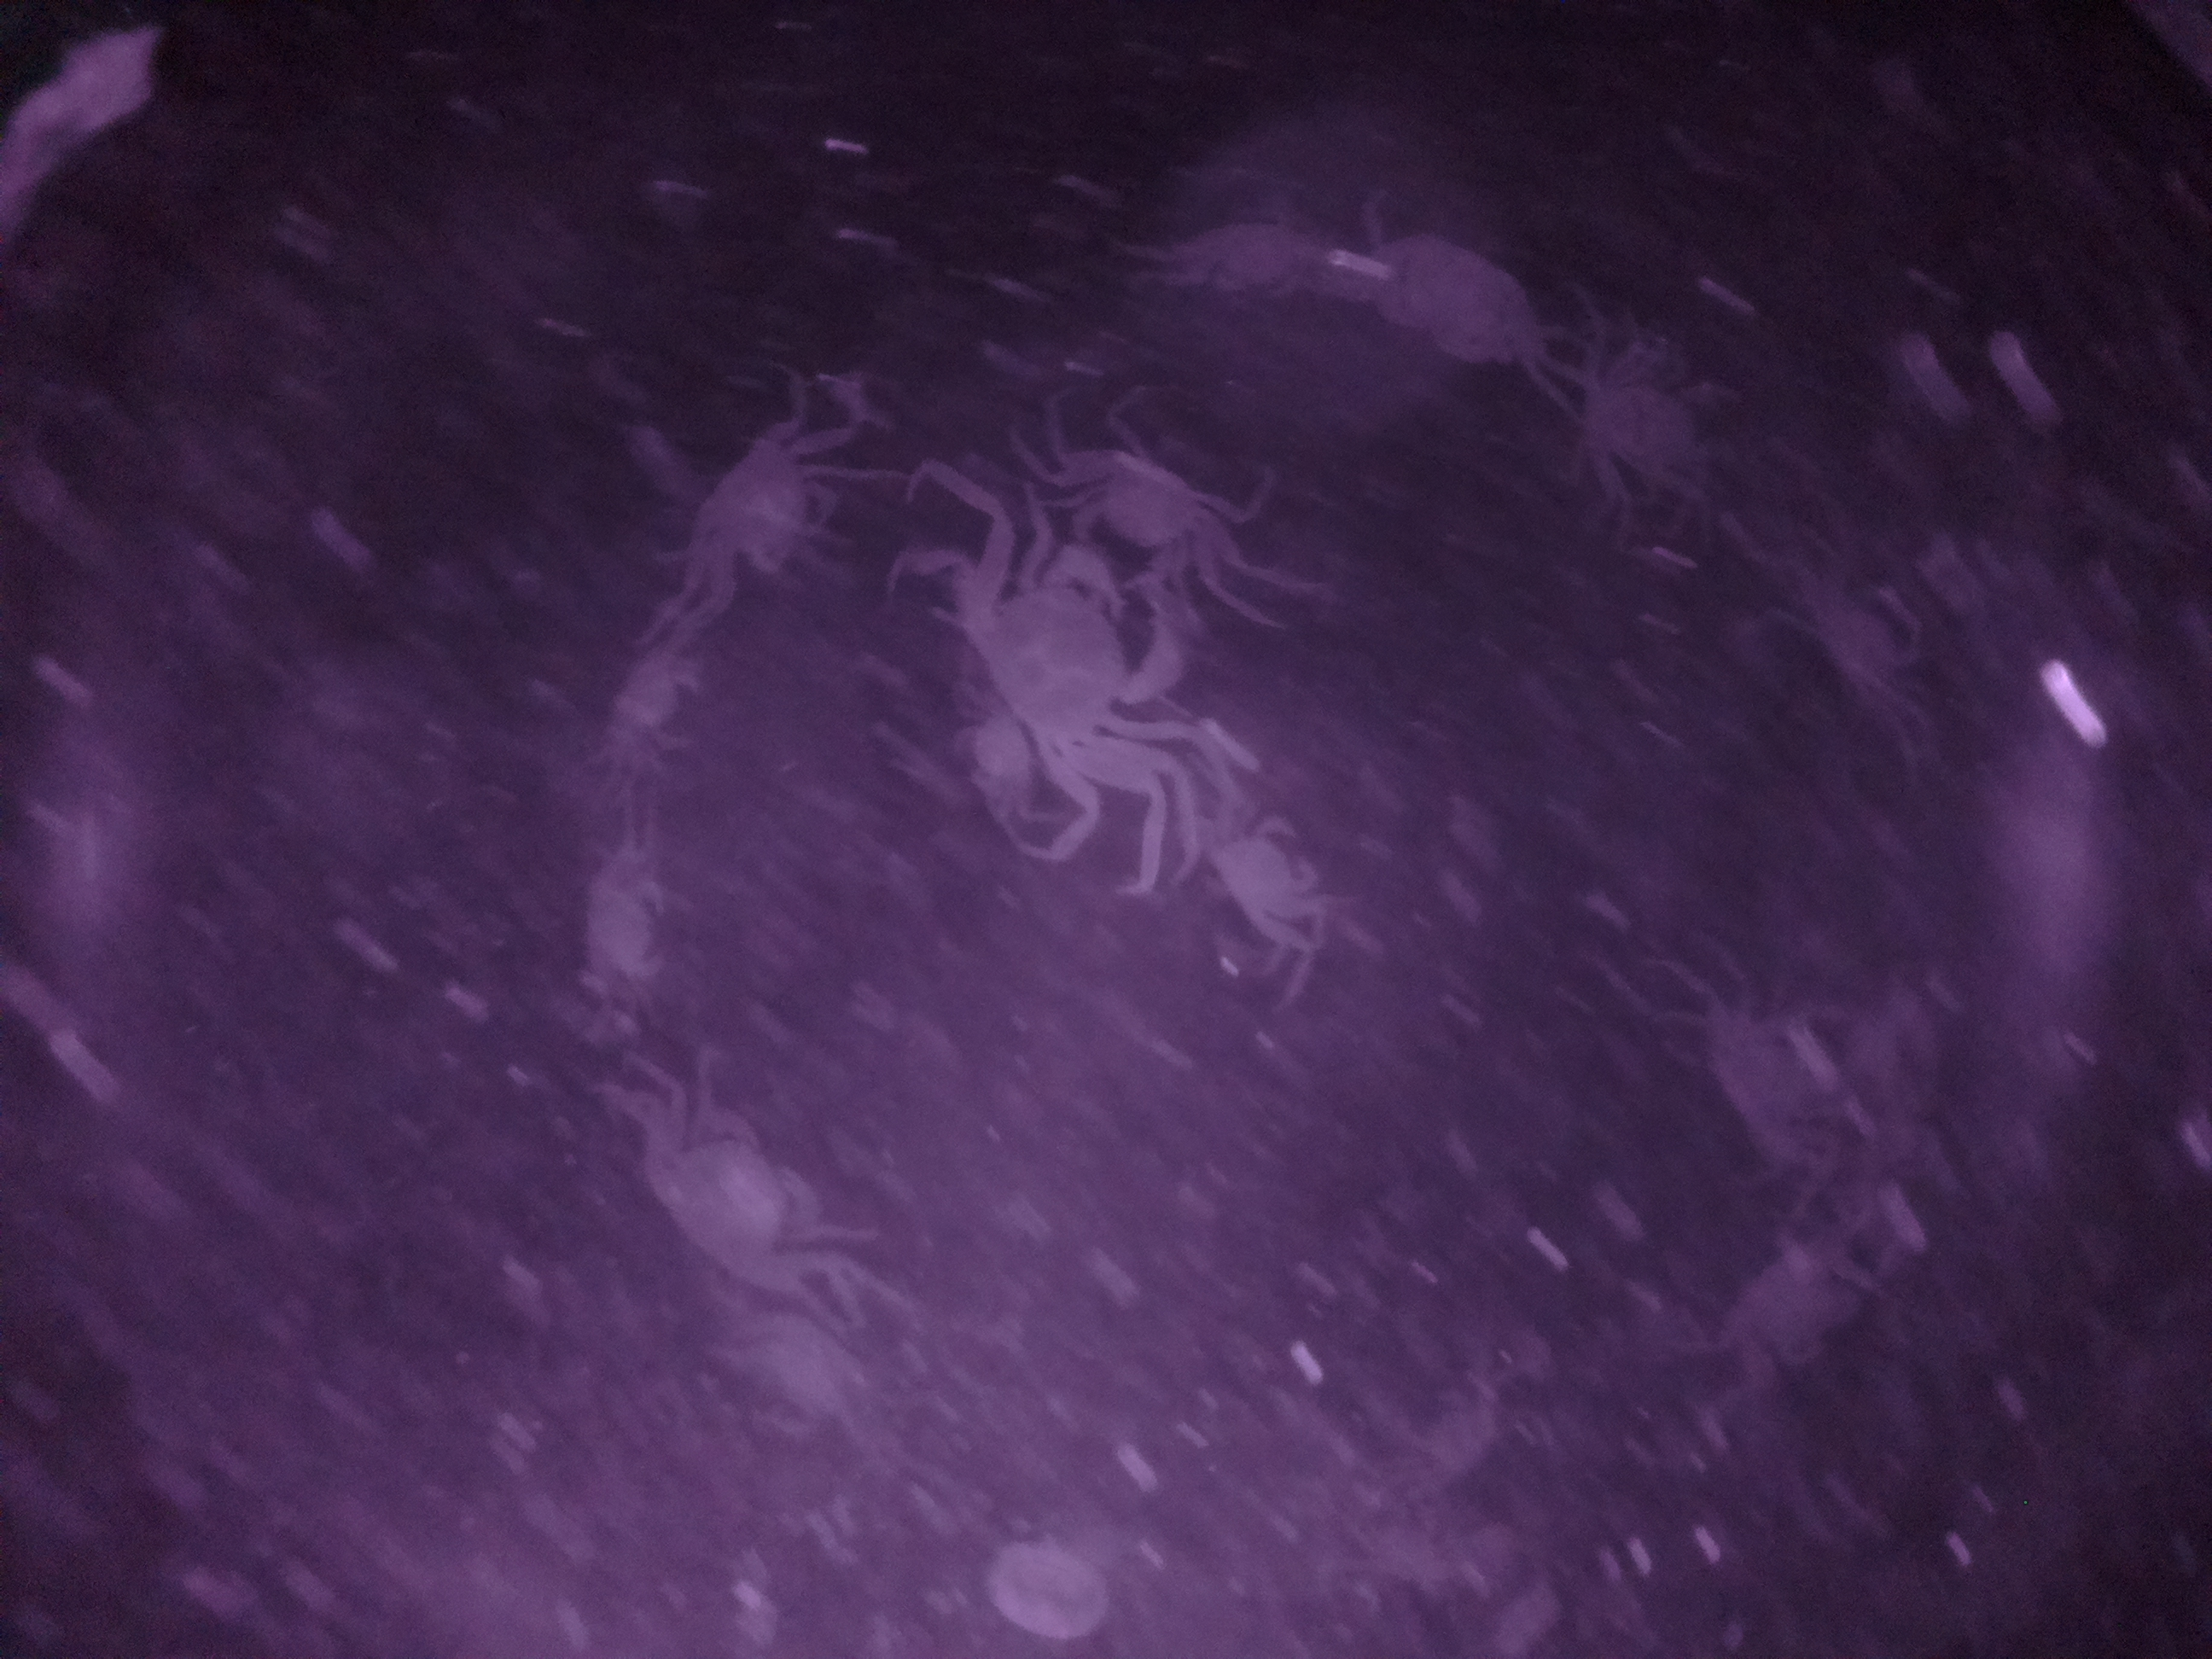Crab: (935, 532, 1188, 793), (672, 396, 848, 605), (1055, 415, 1263, 589), (1186, 791, 1336, 981)
